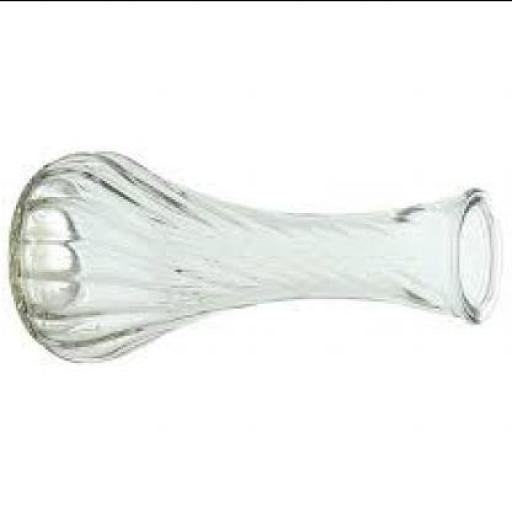glass: (9, 146, 505, 360)
